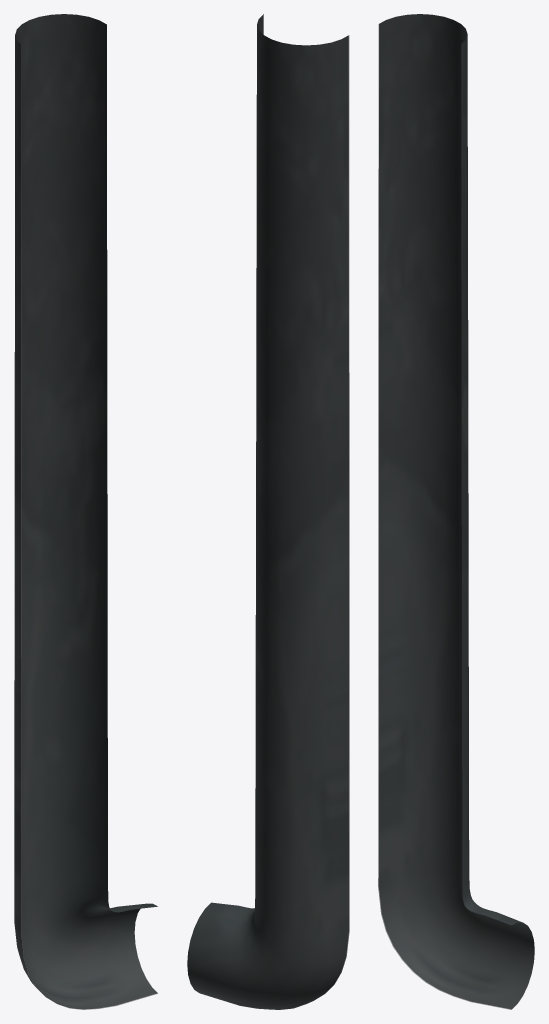
File: shui2.FBX
3 renders of one model, left to right at view 1: azimuth 30°, elevation 25°; view 2: azimuth 150°, elevation 25°; view 3: azimuth 330°, elevation 25°, orthographic. The views are drawn at different scales.
Parts seen in each view (by area): view 1: 对象005; view 2: 对象005; view 3: 对象005.
Part boxes in pixels (box(x1,y1,x2,y2)): 对象005: box(14, 14, 157, 1009); 对象005: box(187, 14, 349, 1009); 对象005: box(378, 14, 534, 1009).
Size of the model in its own units: 6.88 by 47.06 by 2.24.
